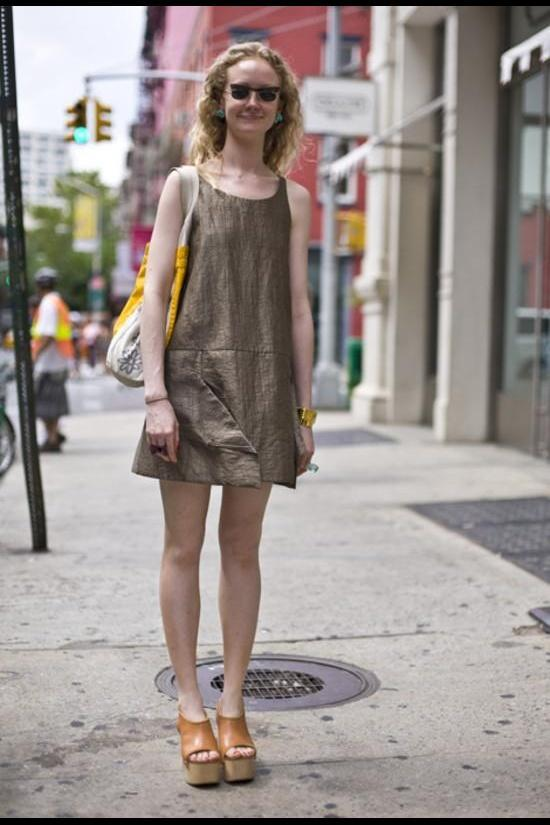dress: (130, 163, 302, 491)
